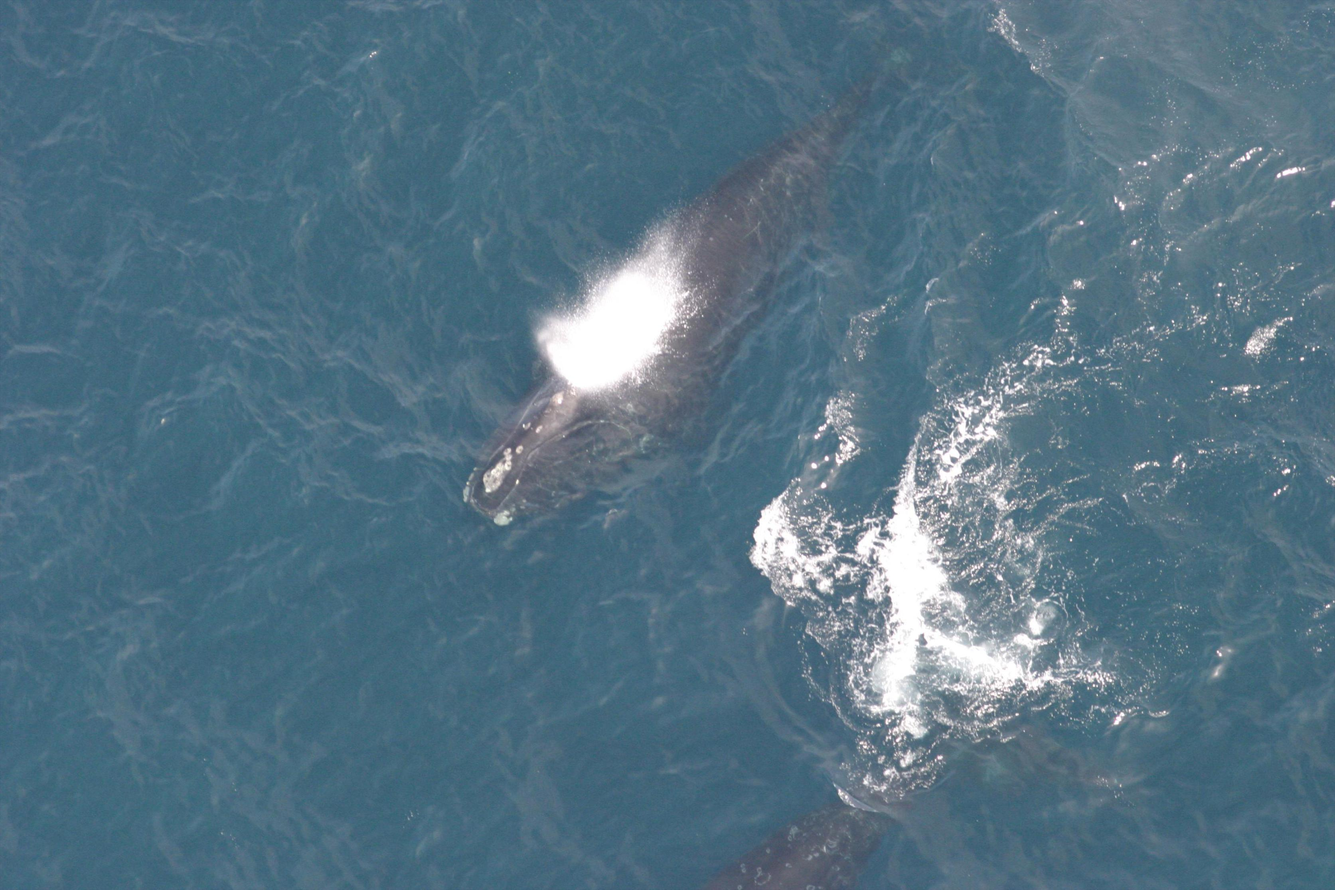whale: (445, 0, 932, 542)
